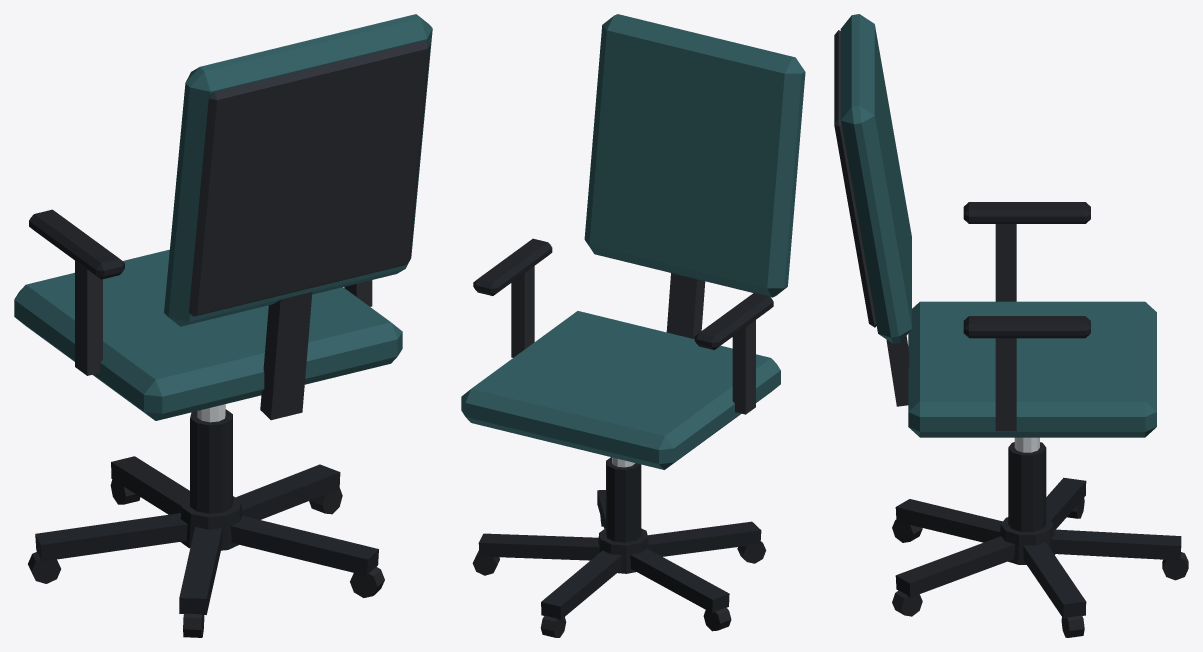
File: office_chair.glb
The picture shows the model from 3 angles, left to right: view 1: azimuth 30°, elevation 25°; view 2: azimuth 150°, elevation 25°; view 3: azimuth 270°, elevation 25°; orthographic projection. The views are drawn at different scales.
Parts seen in each view (by area): view 1: OfficeChair; view 2: OfficeChair; view 3: OfficeChair.
Boxes of the visible parts, x1,y1,x2,y2 form: OfficeChair: (14,14,432,637); OfficeChair: (461,14,805,637); OfficeChair: (834,14,1188,637).
Bounding box in the file's own units: 0.5894 × 1.08 × 0.6697.
